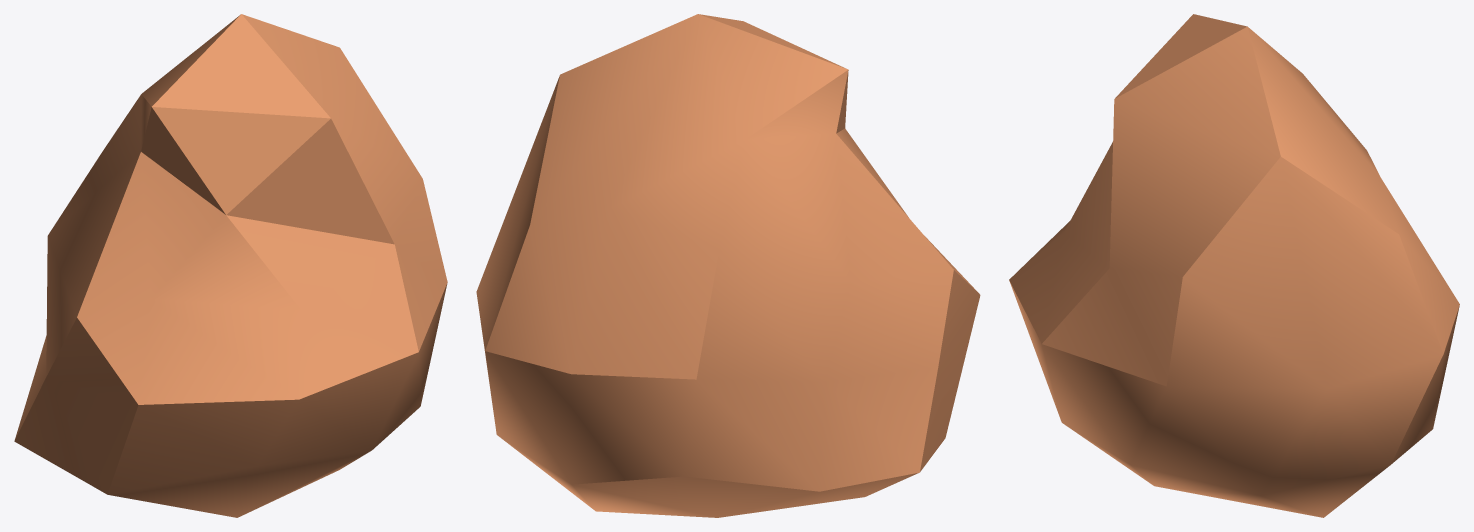
Rendered from Rock.fbx.
The picture shows the model from 3 angles, left to right: view 1: azimuth 30°, elevation 25°; view 2: azimuth 150°, elevation 25°; view 3: azimuth 270°, elevation 25°; orthographic projection. The views are drawn at different scales.
Parts seen in each view (by area): view 1: Icosphere.002; view 2: Icosphere.002; view 3: Icosphere.002.
Boxes of the visible parts, x1,y1,x2,y2 form: Icosphere.002: [14, 14, 447, 517]; Icosphere.002: [476, 14, 980, 517]; Icosphere.002: [1009, 14, 1459, 517].
Size of the model in its own units: 0.682 by 0.6801 by 0.7695.
